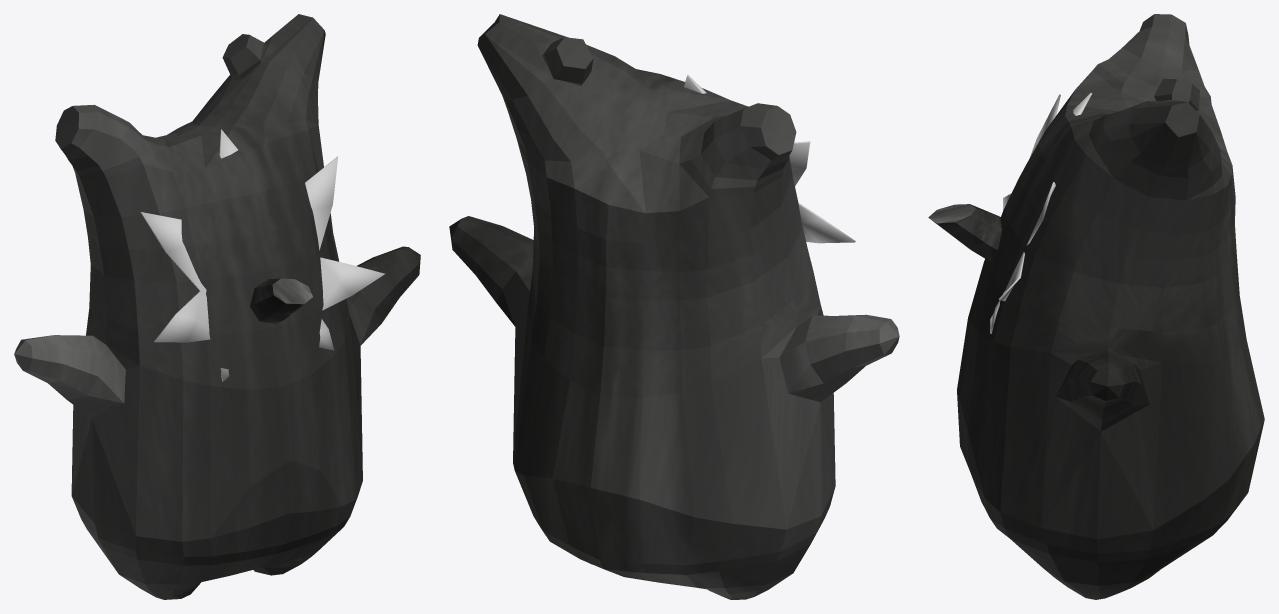
File: frame_0030.obj
3 renders of one model, left to right at view 1: azimuth 30°, elevation 25°; view 2: azimuth 150°, elevation 25°; view 3: azimuth 270°, elevation 25°, orthographic. The views are drawn at different scales.
Visible parts, largest first — view 1: korok, leaf, nose.003_柱体.011; view 2: korok, leaf; view 3: korok, nose.003_柱体.011, leaf.
Boxes of the visible parts, <box> form: korok: <box>14,14,420,599</box>; leaf: <box>140,129,384,381</box>; nose.003_柱体.011: <box>250,278,312,323</box>; korok: <box>449,14,899,599</box>; leaf: <box>684,74,855,243</box>; korok: <box>957,14,1264,599</box>; nose.003_柱体.011: <box>928,204,1001,261</box>; leaf: <box>990,93,1092,333</box>.
Size of the model in its own units: 1.84 by 2.21 by 1.27.
